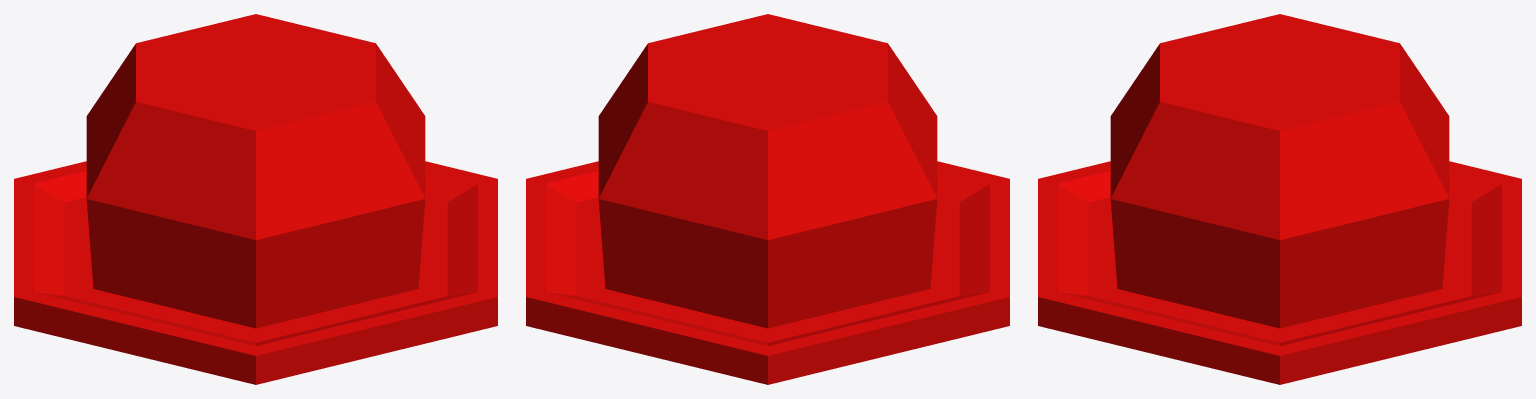
Rendered from sombrero2.fbx.
The picture shows the model from 3 angles, left to right: view 1: azimuth 30°, elevation 25°; view 2: azimuth 150°, elevation 25°; view 3: azimuth 270°, elevation 25°; orthographic projection.
Visible parts, largest first — view 1: Sombrero2; view 2: Sombrero2; view 3: Sombrero2.
Boxes of the visible parts, box(x1,y1,x2,y2) form: Sombrero2: box(14, 14, 497, 384); Sombrero2: box(526, 14, 1009, 384); Sombrero2: box(1038, 14, 1521, 384).
Bounding box in the file's own units: 39.86 × 15.3 × 34.52.
